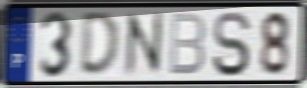3: (38, 10, 75, 81)
8: (258, 10, 293, 78)
B: (167, 11, 208, 78)
D: (77, 9, 122, 79)
N: (123, 9, 164, 80)
S: (210, 9, 253, 79)
